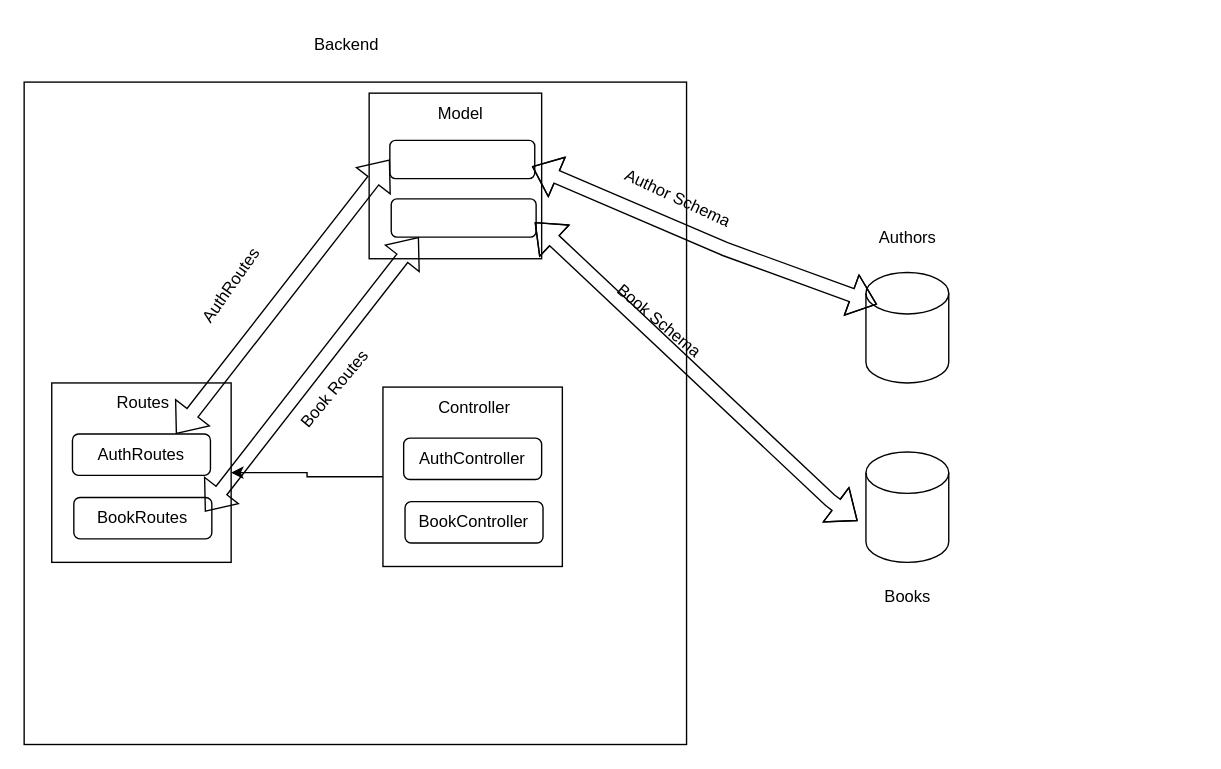
The diagram is 1221 pixels wide and 769 high, and some of its shapes have lost their labels. The shapes that lost their labels are listed below. From the top down, each one's centre as x and y in pixels, then its label:
[461,159]: AuthModel
[463,217]: BookModel
